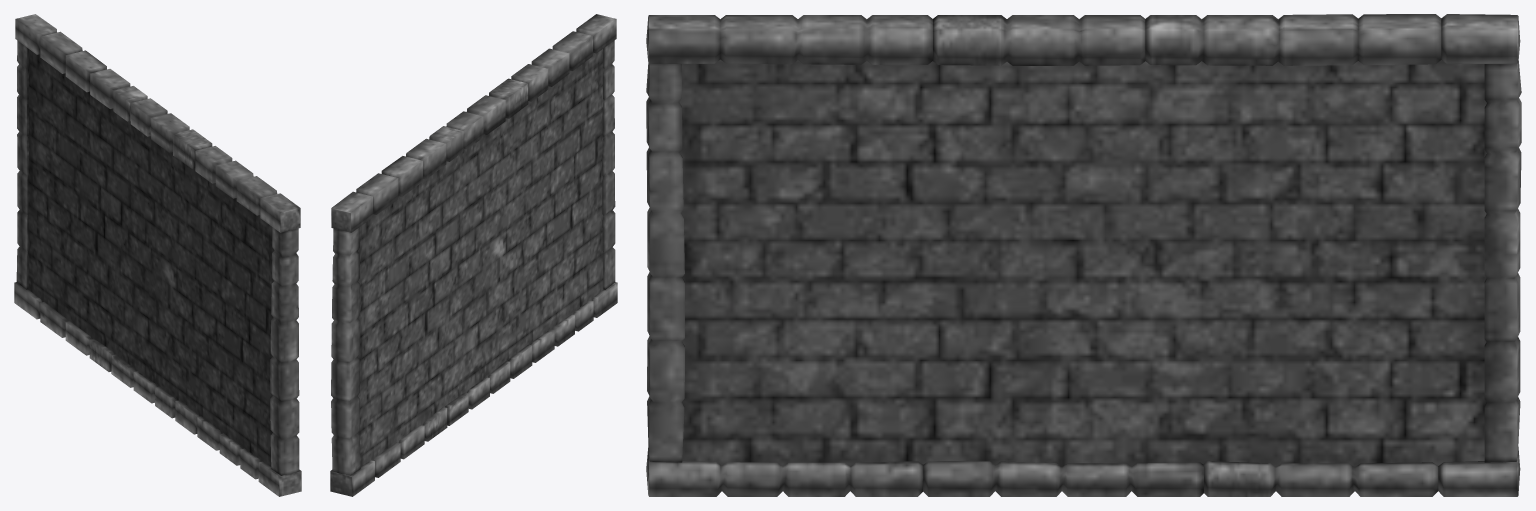
The model's file is SM_WallDiagonal_Stone_b1a1b5.glb.
3 views of the same model, side by side, from view 1: azimuth 30°, elevation 25°; view 2: azimuth 150°, elevation 25°; view 3: azimuth 270°, elevation 25° (orthographic). The views are drawn at different scales.
Size of the model in its own units: 0.2743 by 3.34 by 5.69.
1 material, 1 textured.
